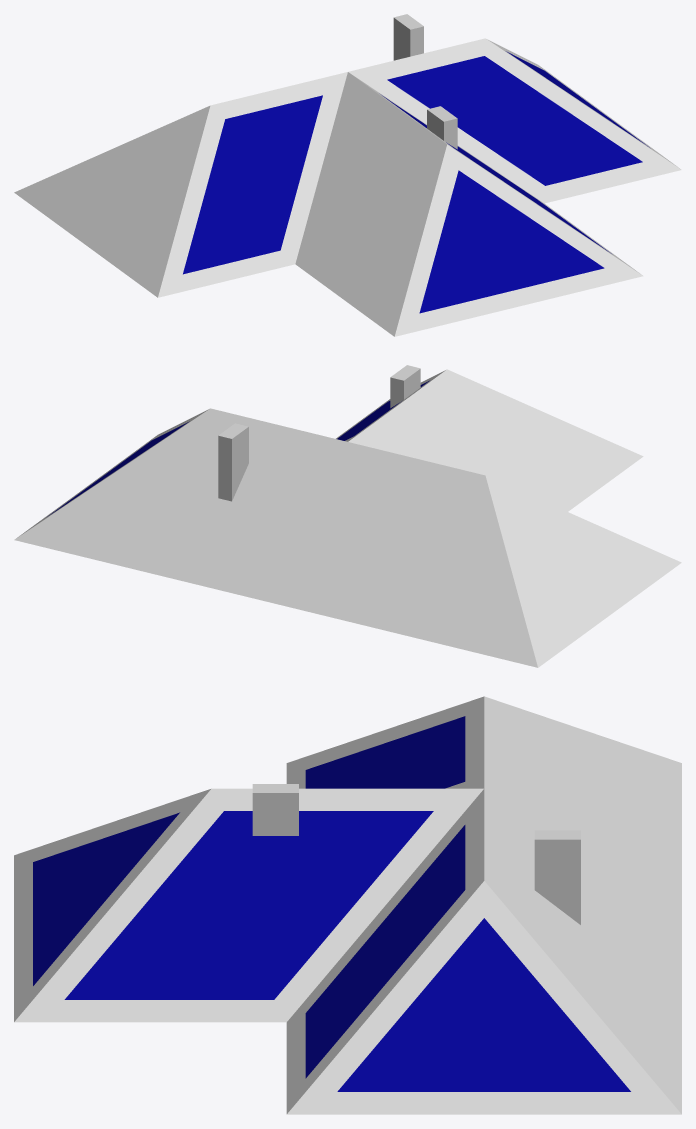
File: Roof7.dae
3 renders of one model, top to bottom at view 1: azimuth 30°, elevation 25°; view 2: azimuth 150°, elevation 25°; view 3: azimuth 270°, elevation 25°, orthographic. The views are drawn at different scales.
Visible parts, largest first — view 1: SketchUp (×8); view 2: SketchUp (×5); view 3: SketchUp (×8).
Boxes of the visible parts, box(x1,y1,x2,y2) form: SketchUp (×8): box(14, 14, 681, 336); SketchUp (×5): box(14, 365, 681, 667); SketchUp (×8): box(14, 696, 681, 1114).
Bounding box in the file's own units: 1201 × 965 × 259.
